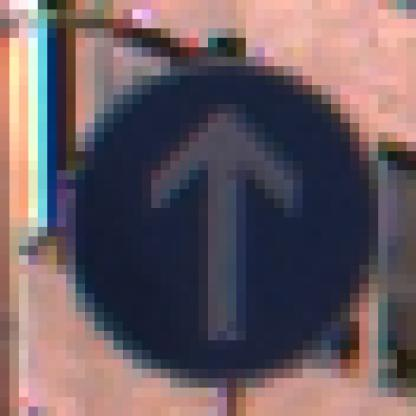AheadOnly: (49, 58, 361, 370)
